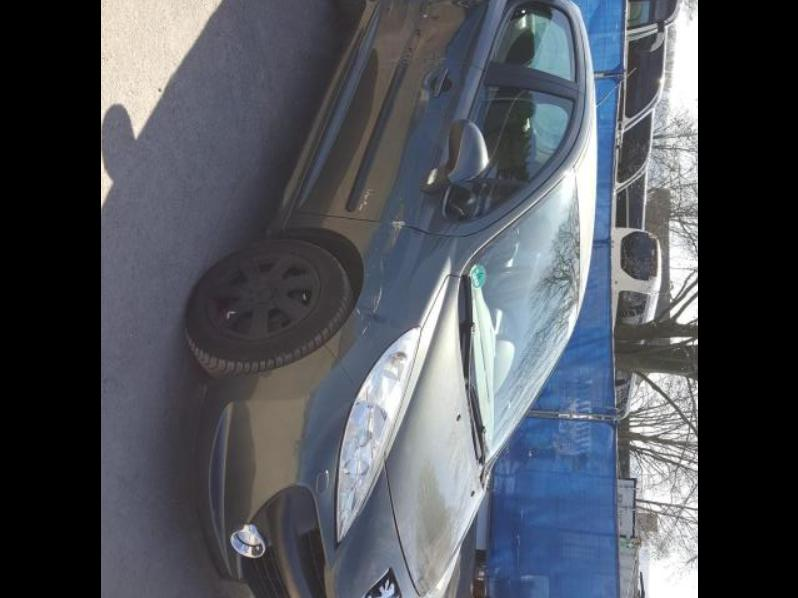Dent: (364, 0, 479, 58)
Scratch: (356, 287, 383, 342), (388, 225, 406, 250), (421, 0, 435, 26), (390, 208, 406, 225), (351, 304, 364, 317)
